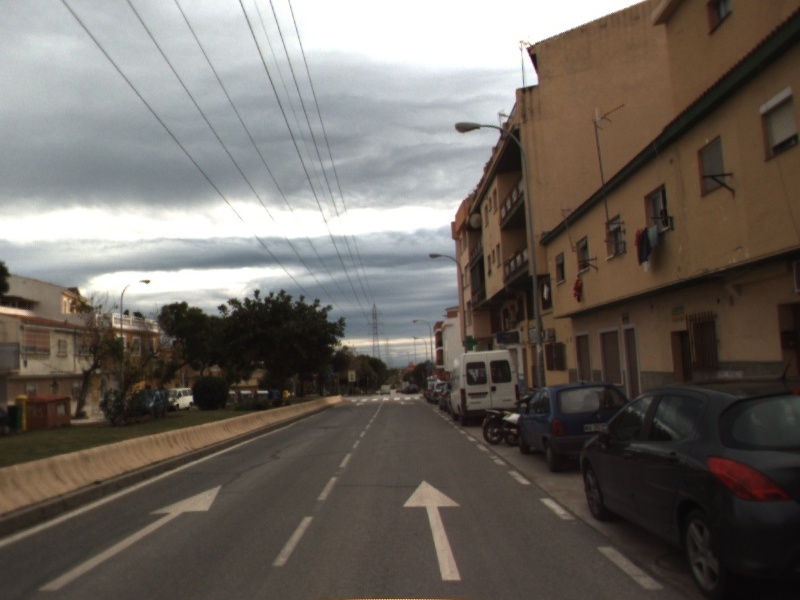STRAIGHT: (34, 482, 225, 593), (401, 478, 465, 582)
